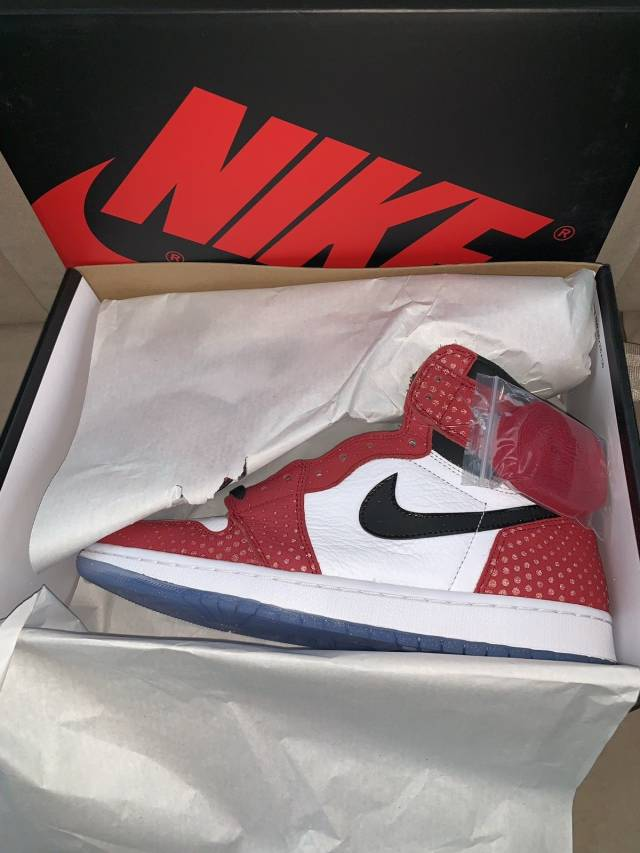Air Jordan 1 Spiderman: (65, 328, 611, 664)
